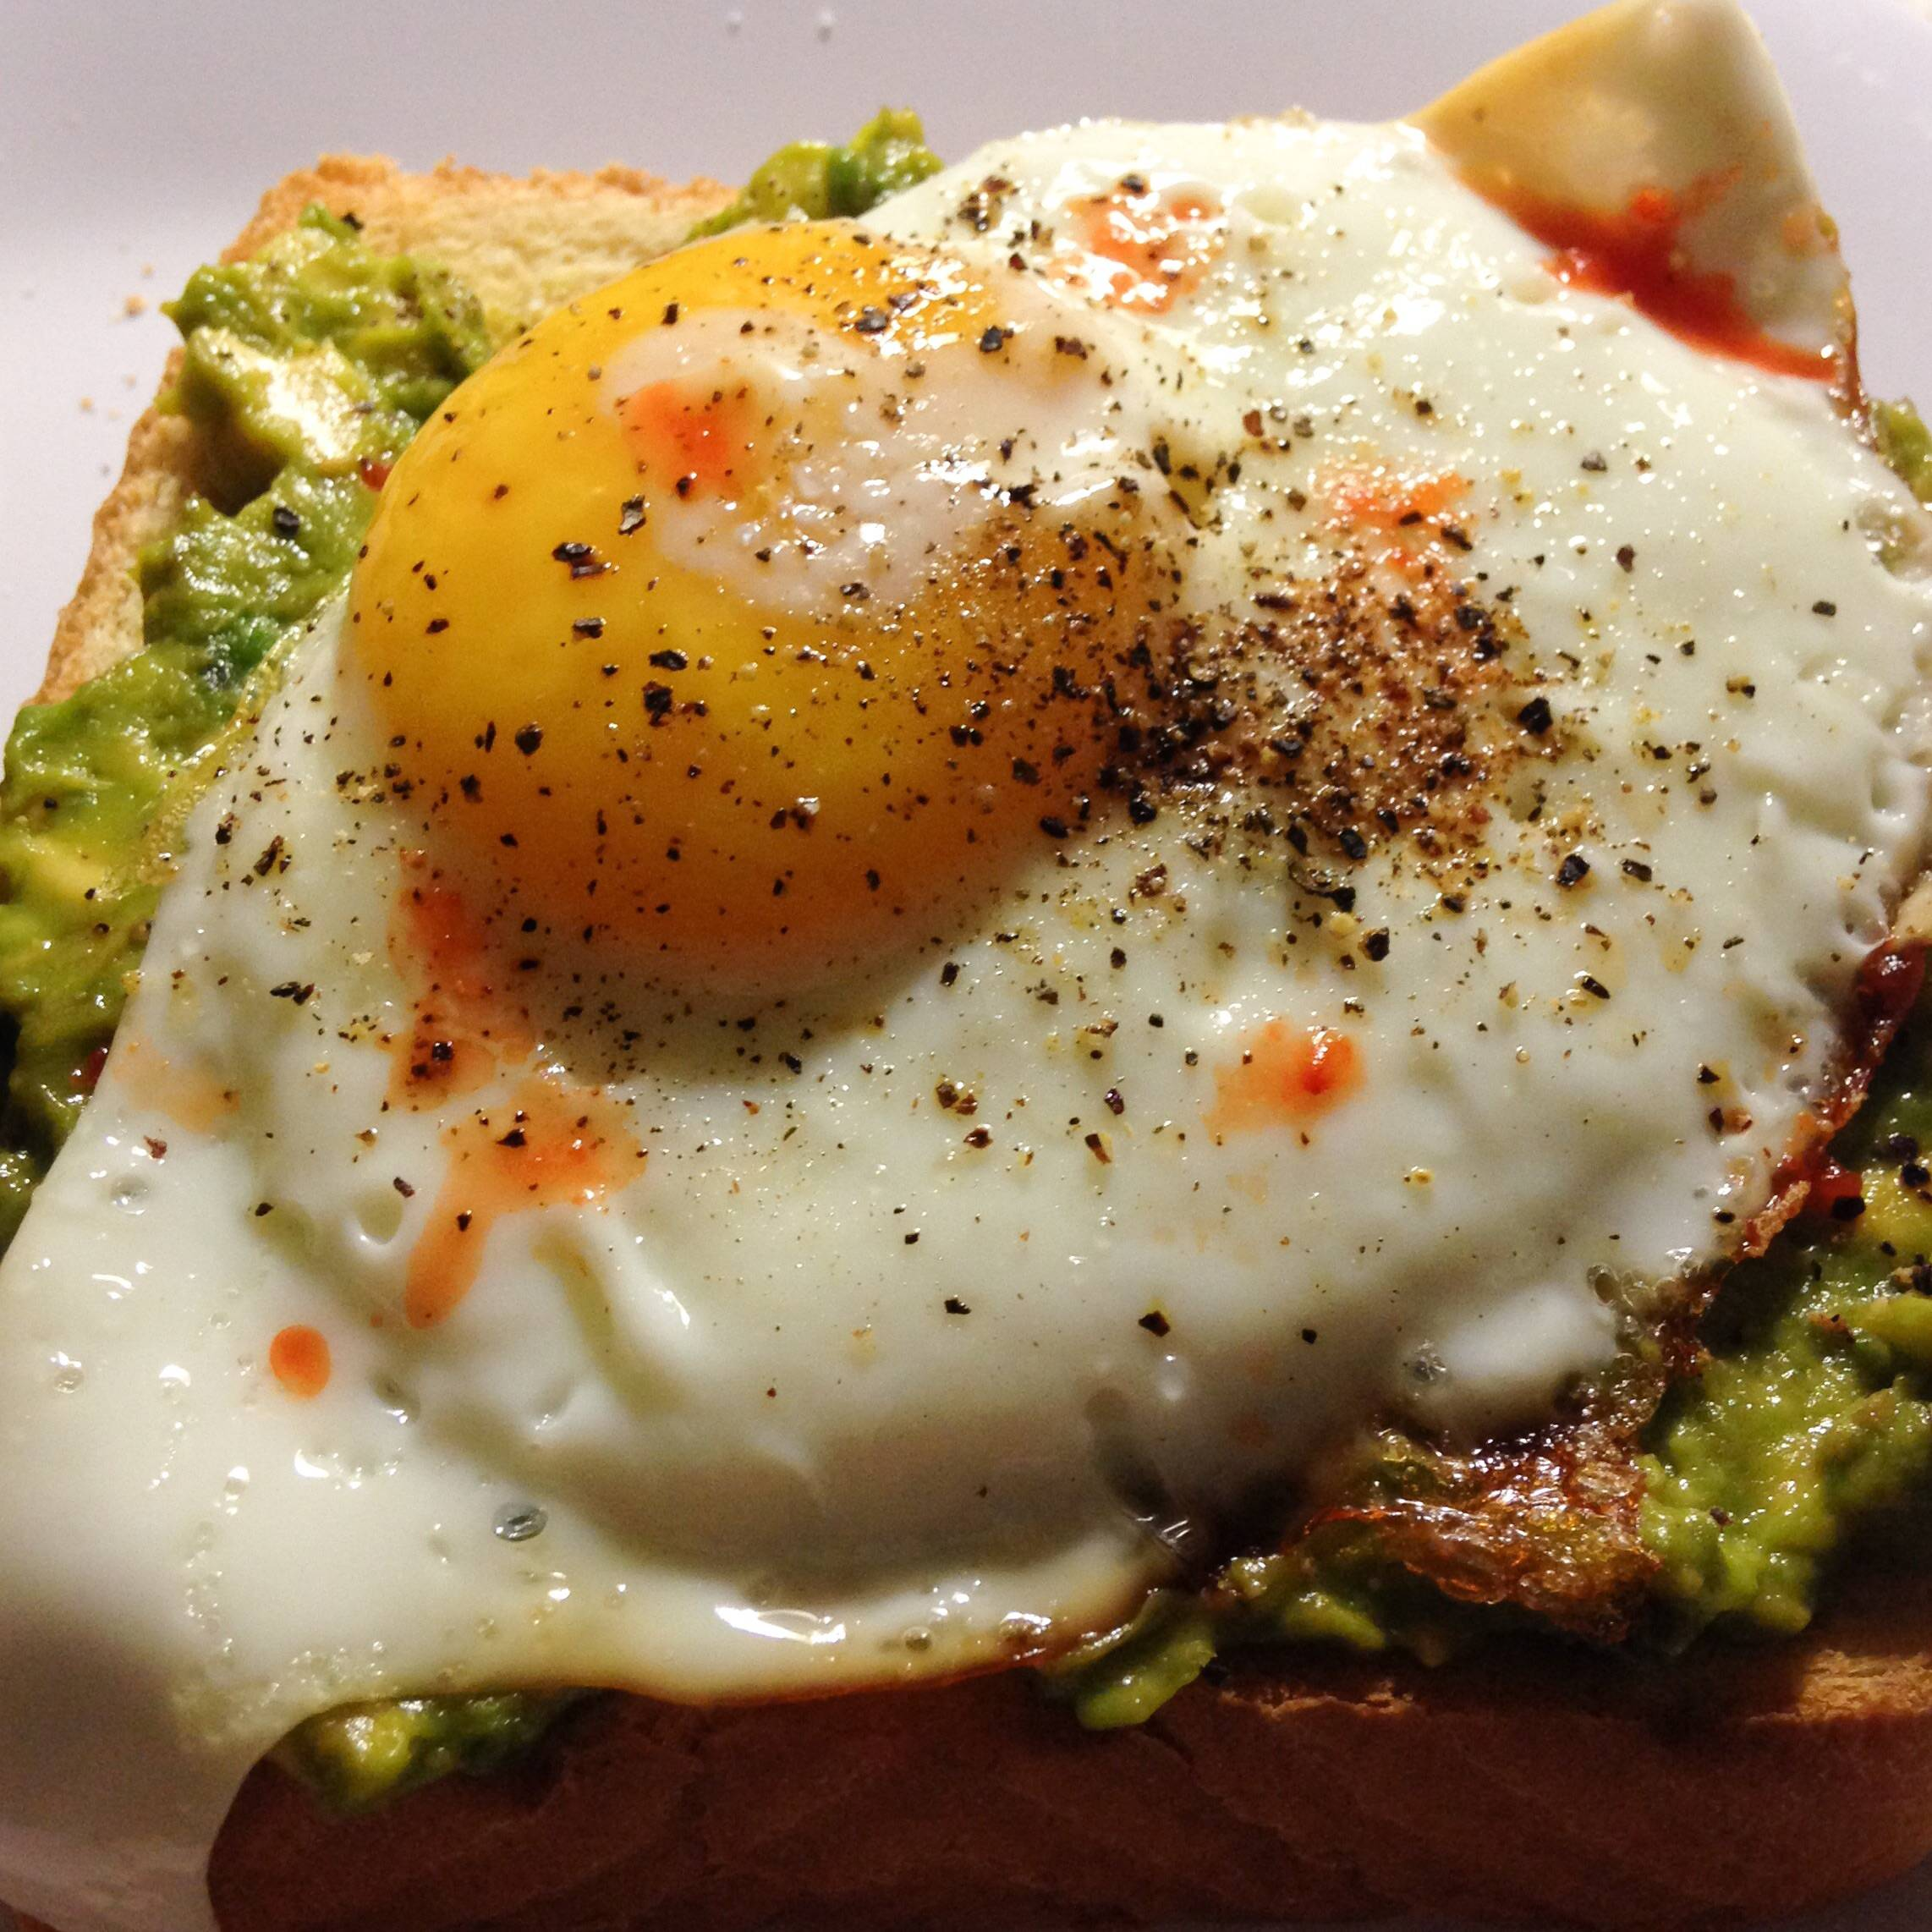fried egg: (318, 255, 1727, 1484)
